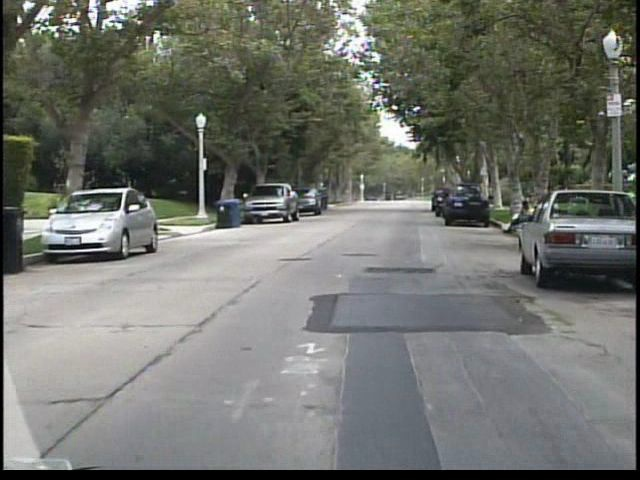person: (500, 197, 532, 237)
